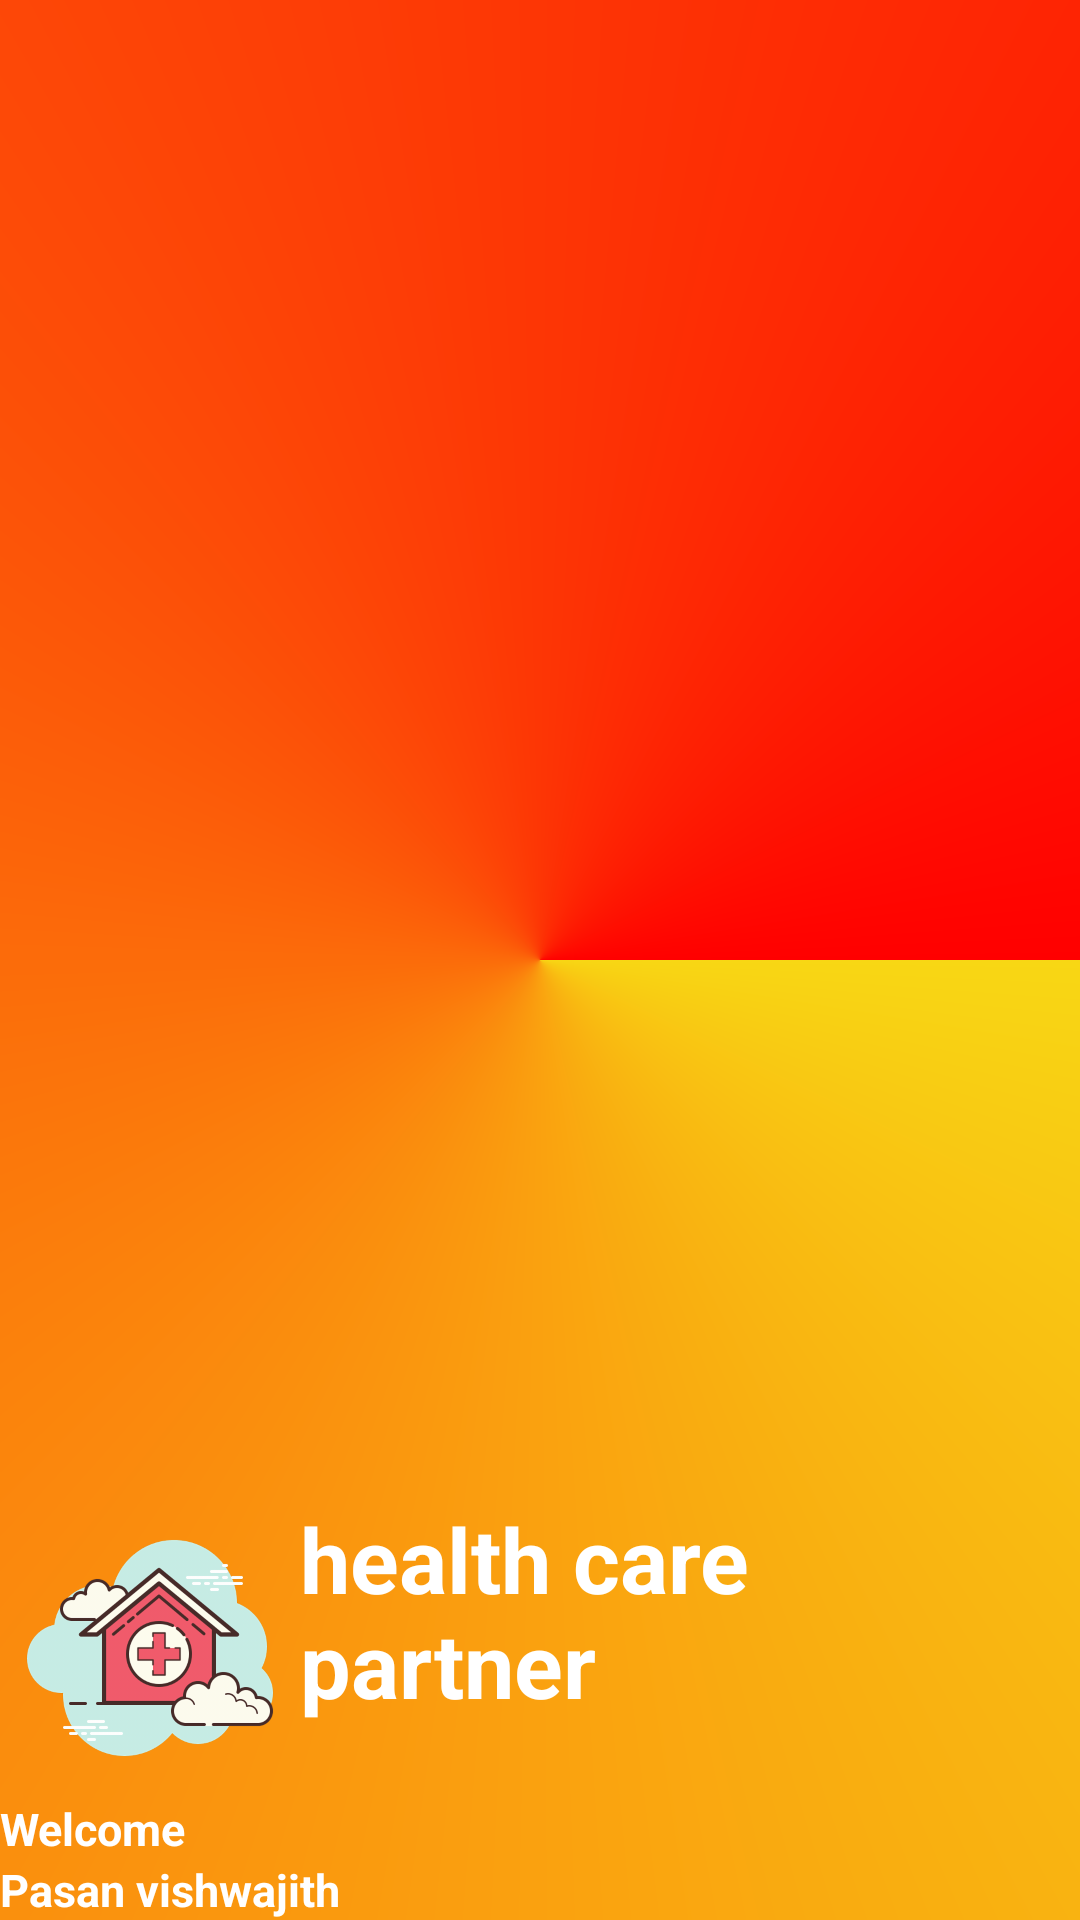

Named icons in this screenshot (1080w x 1920h) and their centers, (x,y):
hospital: (150,1648)
